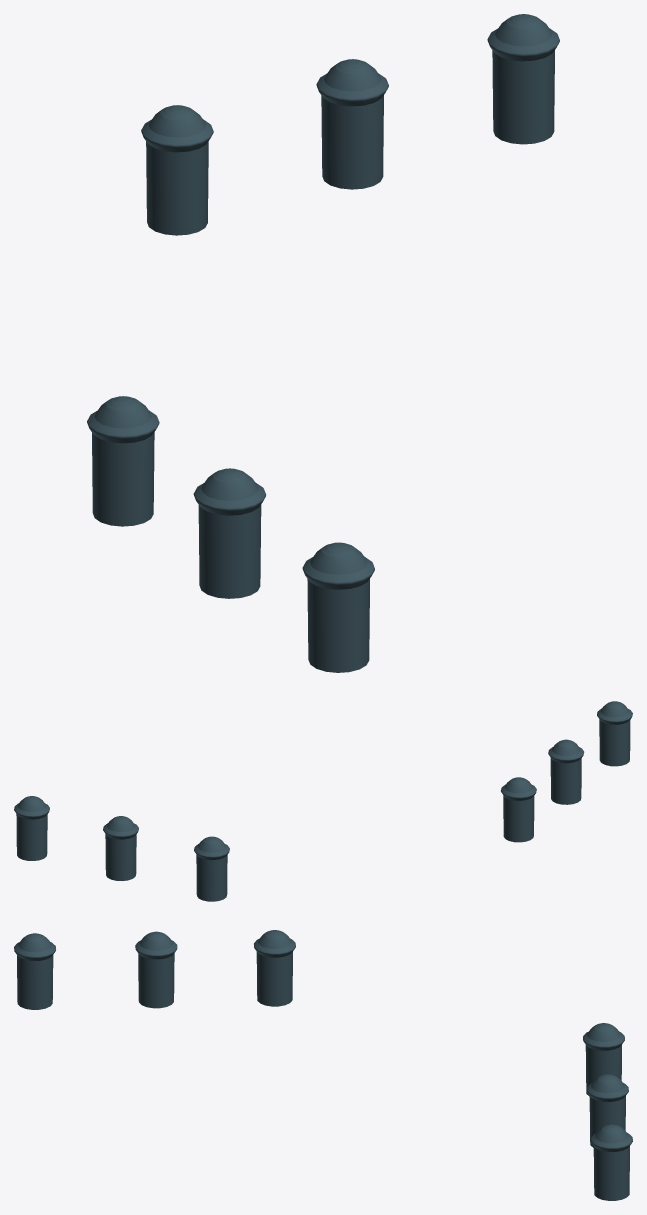
Rendered from BarLightGlass_mesh.fbx.
The picture shows the model from 3 angles, top to bottom: view 1: azimuth 30°, elevation 25°; view 2: azimuth 150°, elevation 25°; view 3: azimuth 270°, elevation 25°; orthographic projection. The views are drawn at different scales.
Parts seen in each view (by area): view 1: BarLightGlass_mesh; view 2: BarLightGlass_mesh; view 3: BarLightGlass_mesh.
Boxes of the visible parts, left/top/right/bottom form: BarLightGlass_mesh: left=87, top=14, right=559, bottom=672; BarLightGlass_mesh: left=14, top=701, right=632, bottom=901; BarLightGlass_mesh: left=14, top=930, right=632, bottom=1200.
Size of the model in its own units: 77.93 by 11.88 by 94.81.
